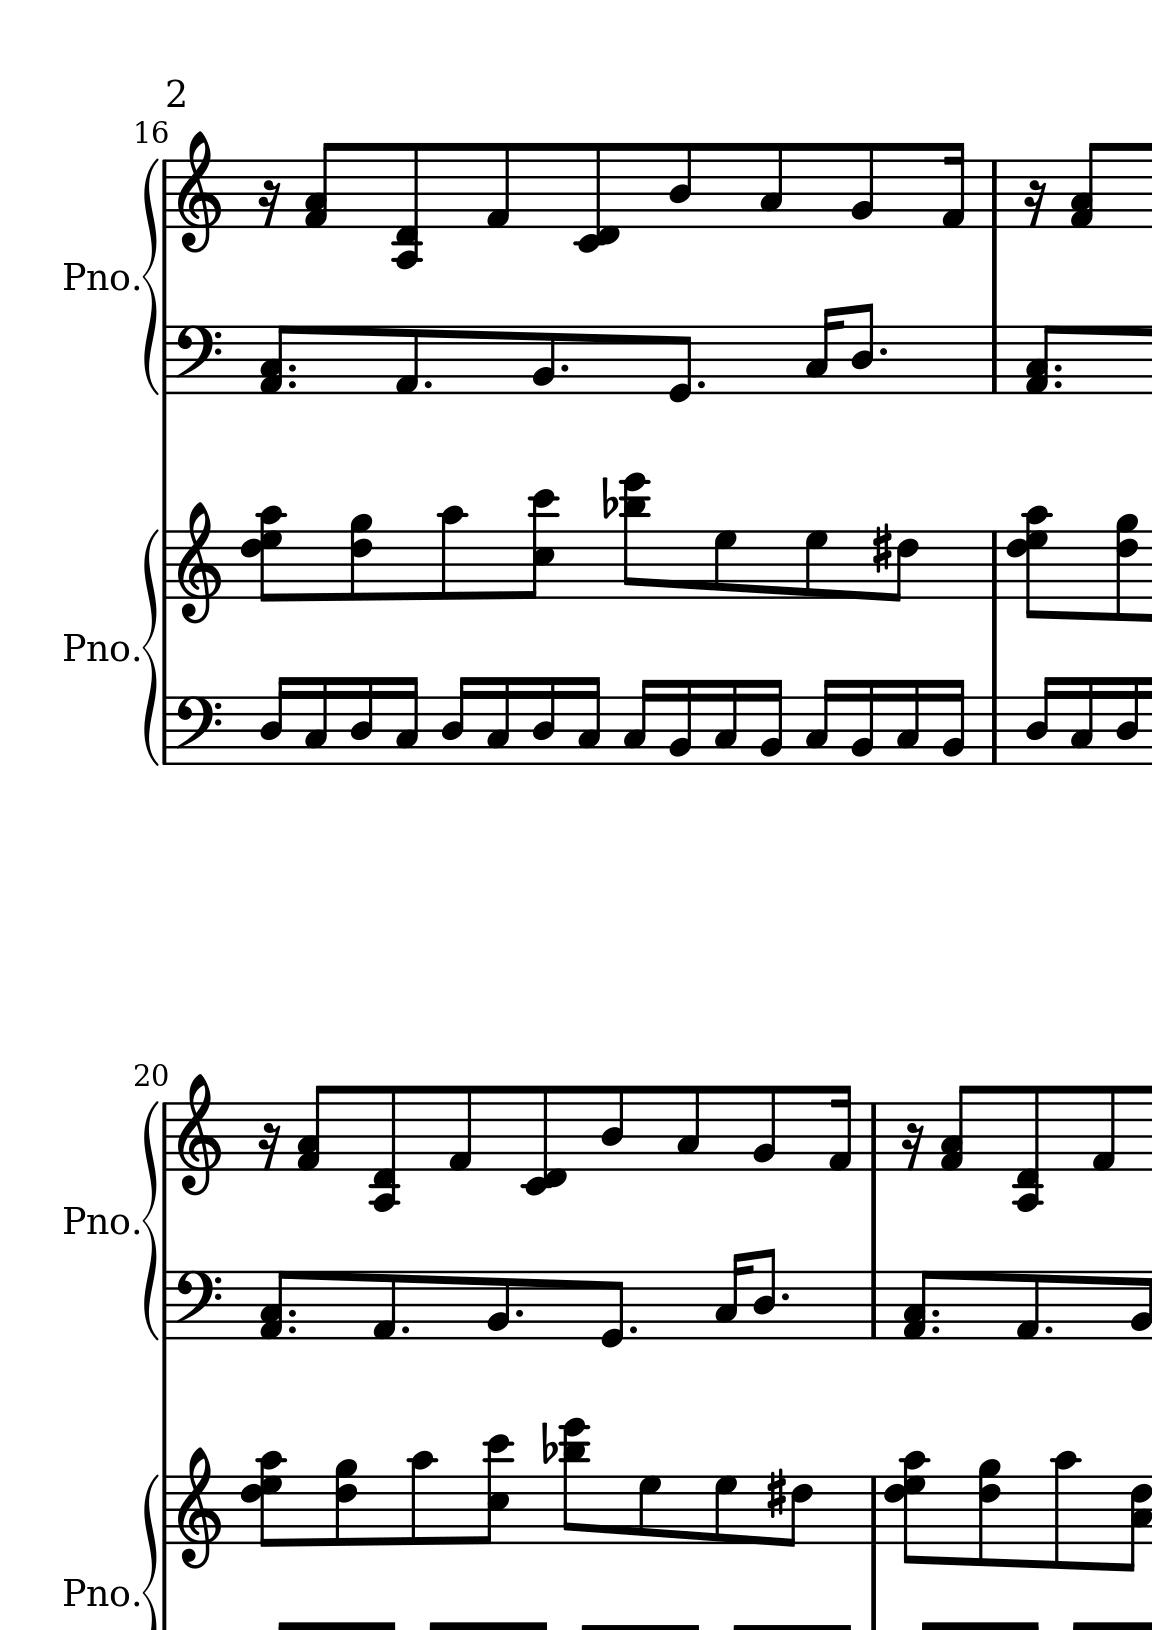0: (150, 1060, 168, 1088)
1: (133, 118, 147, 146)
16_1: (941, 141, 966, 231), (828, 1083, 853, 1173)
16_2: (849, 678, 876, 768), (667, 678, 694, 766), (940, 678, 967, 766), (758, 678, 784, 768)
16_3: (804, 305, 845, 396), (713, 1250, 752, 1341), (803, 678, 838, 766), (621, 678, 655, 766), (302, 675, 330, 766), (1068, 675, 1097, 766), (393, 675, 420, 766), (485, 675, 512, 766), (895, 678, 923, 766), (576, 675, 602, 766), (713, 678, 739, 766)
16_4: (1024, 674, 1057, 766), (258, 675, 292, 766), (440, 674, 473, 766), (1115, 674, 1142, 768), (349, 675, 377, 766), (531, 675, 559, 766)
2: (165, 77, 187, 110), (130, 1060, 150, 1088)
6: (150, 118, 170, 145)
8_-2_-1: (522, 1084, 569, 1198), (574, 142, 620, 254)
8_-4_-1: (391, 142, 424, 269), (1014, 1085, 1046, 1213), (372, 1085, 401, 1213)
8_0: (598, 1269, 627, 1350), (667, 323, 694, 405)
8_1: (482, 141, 512, 231), (445, 1084, 474, 1173), (1088, 1085, 1117, 1174), (393, 324, 421, 398), (1014, 1270, 1042, 1342), (370, 1270, 398, 1342)
8_10: (1049, 1451, 1081, 1573), (439, 503, 468, 603), (408, 1449, 436, 1549)
8_11_14: (618, 471, 651, 599), (559, 1417, 591, 1544)
8_1_3: (304, 141, 342, 231), (1071, 141, 1105, 228), (297, 1084, 330, 1171), (939, 1084, 972, 1171), (259, 1270, 295, 1341), (903, 1270, 939, 1341), (1024, 324, 1058, 396), (259, 324, 293, 396)
8_2: (849, 142, 876, 231), (751, 1084, 778, 1173), (531, 324, 557, 399), (486, 1270, 511, 1342), (1128, 1270, 1151, 1342)
8_3: (674, 1084, 703, 1174), (758, 141, 785, 231)
8_3_6: (1123, 1475, 1152, 1573)
8_4: (598, 1084, 626, 1173), (668, 141, 694, 229), (852, 302, 875, 396), (754, 1247, 775, 1341)
8_5_12: (478, 1434, 514, 1547), (527, 489, 554, 601)
8_6: (783, 1474, 815, 1550), (889, 528, 920, 604)
8_6_9: (976, 1456, 1002, 1568), (1115, 512, 1140, 623), (349, 513, 375, 603), (334, 1461, 358, 1547)
8_7: (803, 528, 830, 602), (713, 528, 739, 601), (637, 1474, 663, 1547), (713, 1474, 739, 1547)
8_th: (886, 1449, 939, 1566), (239, 500, 294, 606), (1007, 501, 1055, 621), (241, 1446, 282, 1549)
Brace: (142, 525, 160, 769), (142, 156, 160, 396)
Fclef: (172, 693, 224, 766), (175, 1269, 224, 1343), (175, 323, 224, 396)
Flat: (540, 1419, 559, 1468), (600, 475, 618, 522)
Gclef: (175, 500, 223, 626), (175, 1072, 223, 1198), (175, 130, 223, 254), (175, 1446, 223, 1570)
Pno: (62, 257, 131, 298), (64, 1574, 131, 1613), (64, 1203, 130, 1240), (64, 629, 131, 665)
Rests16: (256, 178, 282, 231), (1022, 178, 1049, 231), (256, 1122, 282, 1171), (899, 1122, 925, 1171)
Sharp: (870, 521, 893, 574), (764, 1467, 787, 1519)
Single_barline: (981, 160, 1006, 228), (862, 1477, 886, 1545), (862, 1104, 885, 1170), (984, 532, 1006, 599), (982, 697, 1005, 764), (984, 326, 1005, 393), (863, 1272, 884, 1338), (158, 1475, 175, 1545), (158, 160, 175, 228), (158, 530, 175, 598), (158, 1102, 175, 1170), (158, 1272, 175, 1340), (158, 326, 175, 393), (160, 697, 175, 764)
dot: (511, 1305, 526, 1322), (1041, 1321, 1056, 1338), (559, 359, 572, 378), (778, 1289, 793, 1305), (928, 1322, 943, 1337), (286, 360, 300, 375), (876, 344, 890, 360), (694, 376, 708, 393), (929, 1305, 943, 1321), (626, 1322, 640, 1338), (1051, 361, 1065, 376), (1051, 378, 1065, 393), (398, 1322, 411, 1336), (421, 378, 434, 393), (286, 378, 300, 390), (286, 1308, 298, 1320), (286, 1323, 298, 1335)
